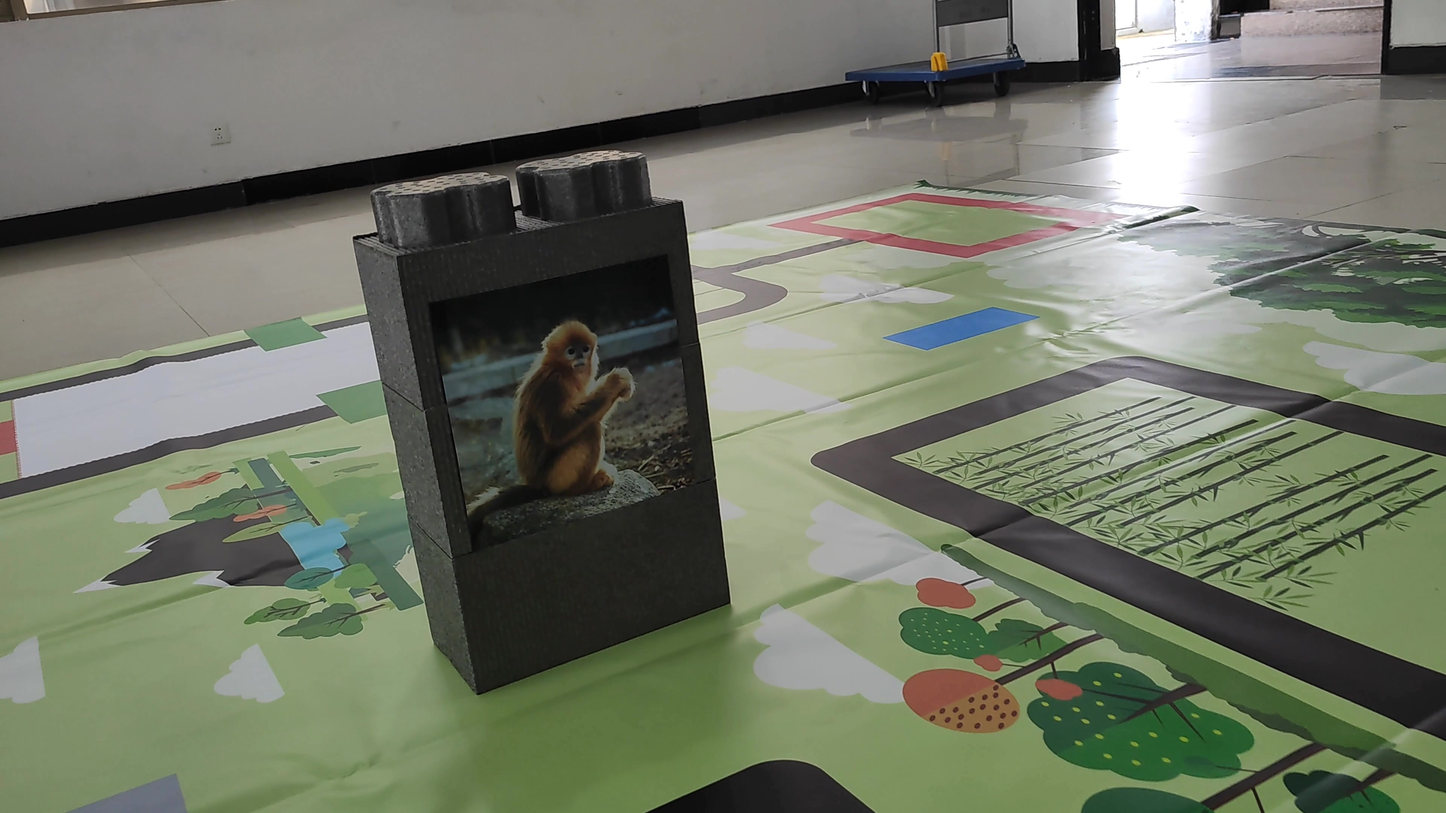monkey: (464, 304, 646, 521)
